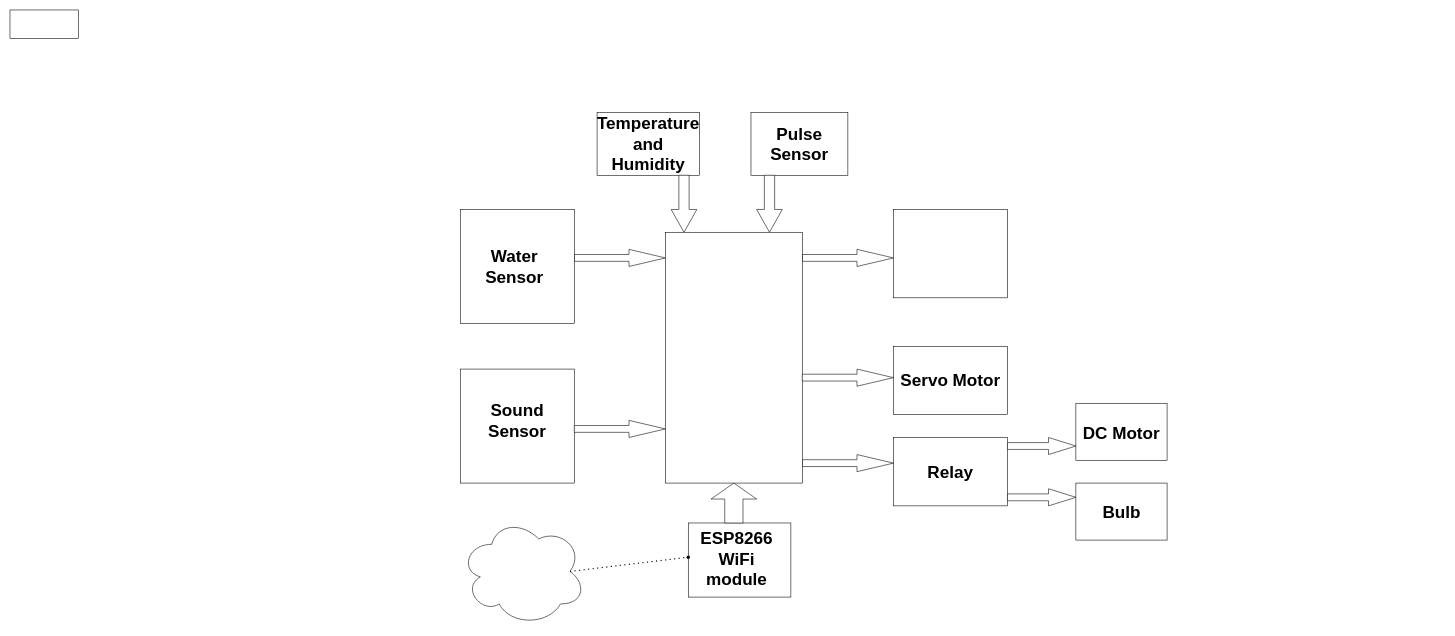
This 1455x636 diagram has some shape labels left out. Each missing label, with the centre of its shape:
"Arduino UNO" goes at point (733, 357).
"Buzzer" goes at point (950, 253).
"Cayenne" goes at point (523, 571).
